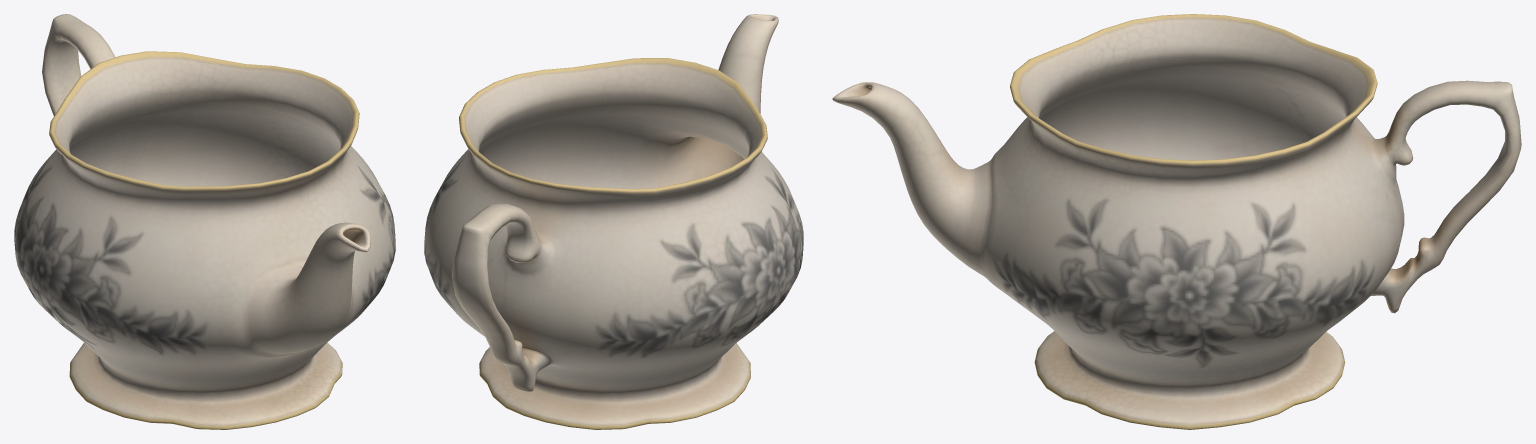
File: teapot.glb
3 renders of one model, left to right at view 1: azimuth 30°, elevation 25°; view 2: azimuth 150°, elevation 25°; view 3: azimuth 270°, elevation 25°, orthographic. The views are drawn at different scales.
Visible parts, largest first — view 1: tea_set_01_teapot_01; view 2: tea_set_01_teapot_01; view 3: tea_set_01_teapot_01.
Boxes of the visible parts, x1,y1,x2,y2 form: tea_set_01_teapot_01: [14, 14, 395, 429]; tea_set_01_teapot_01: [424, 14, 803, 429]; tea_set_01_teapot_01: [832, 14, 1521, 429].
Bounding box in the file's own units: 0.1648 × 0.122 × 0.2678.
1 material, 1 textured.
